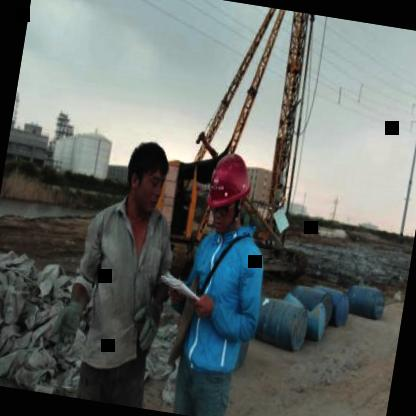head: (116, 134, 178, 225)
helmet: (200, 147, 260, 236)
